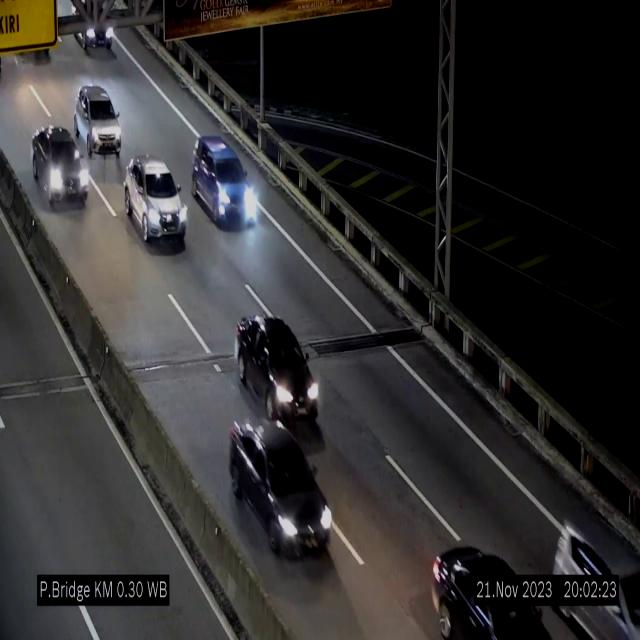Car: (533, 488, 640, 640), (229, 417, 335, 563), (425, 538, 559, 640), (236, 313, 322, 423), (30, 122, 94, 220), (124, 156, 186, 246), (191, 134, 250, 227), (75, 81, 121, 156)
